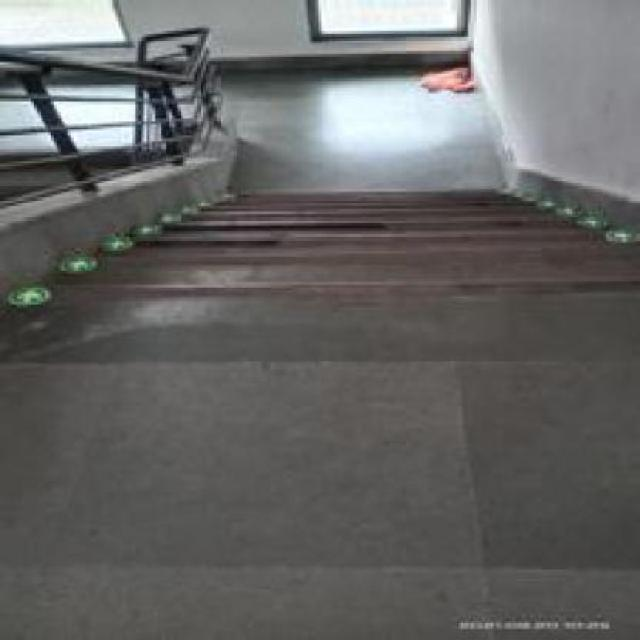stair: (132, 172, 565, 332)
